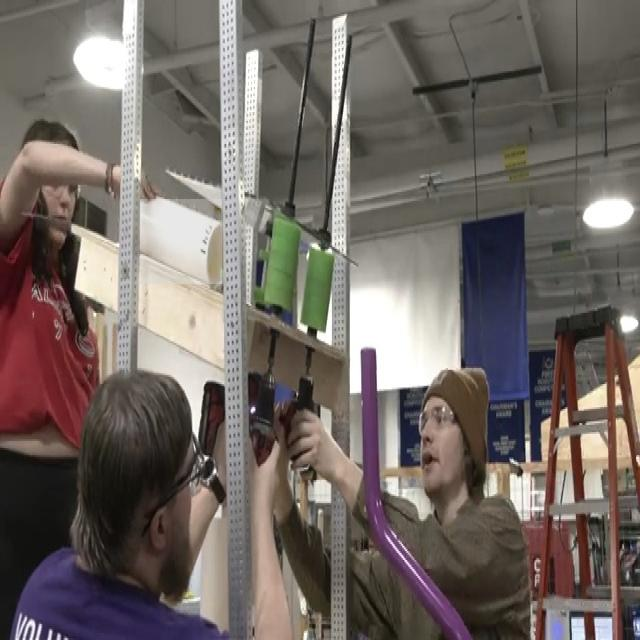Coral: (140, 199, 222, 284)
